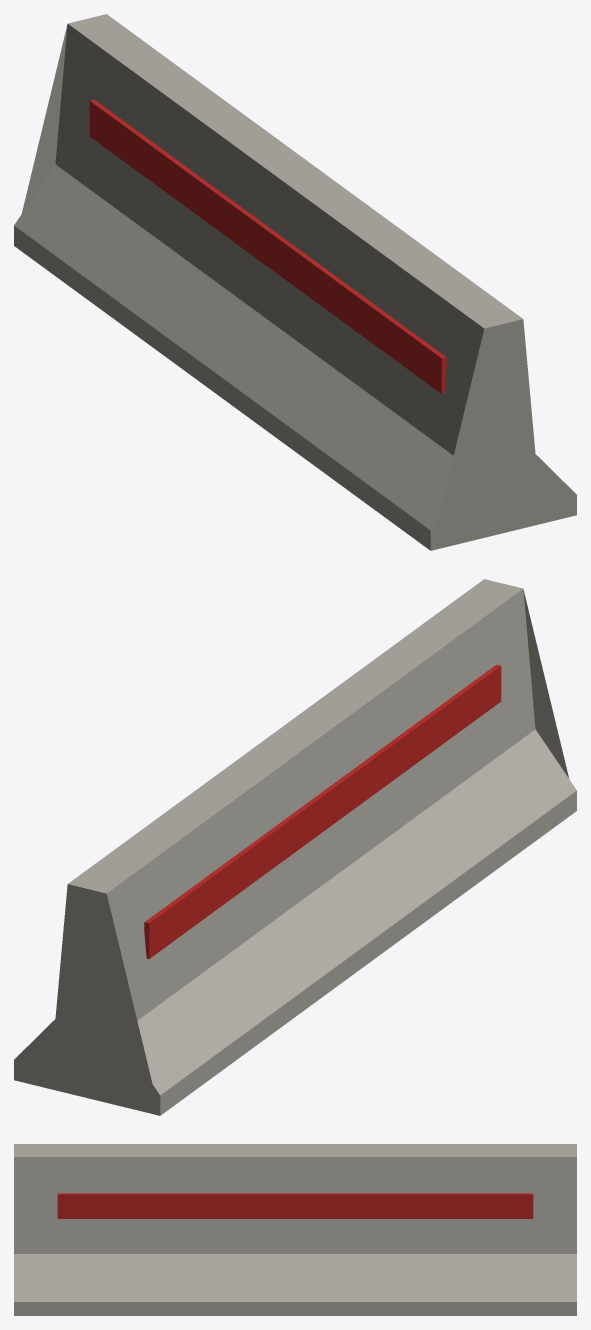
Rendered from sn_trk_jersey.glb.
The picture shows the model from 3 angles, top to bottom: view 1: azimuth 30°, elevation 25°; view 2: azimuth 150°, elevation 25°; view 3: azimuth 270°, elevation 25°; orthographic projection. The views are drawn at different scales.
Parts seen in each view (by area): view 1: sn_trk_jersey; view 2: sn_trk_jersey; view 3: sn_trk_jersey.
Boxes of the visible parts, left/top/right/bottom form: sn_trk_jersey: left=14, top=14, right=576, bottom=550; sn_trk_jersey: left=14, top=579, right=576, bottom=1115; sn_trk_jersey: left=14, top=1144, right=576, bottom=1315.
Bounding box in the file's own units: 0.5998 × 0.82 × 2.96.
